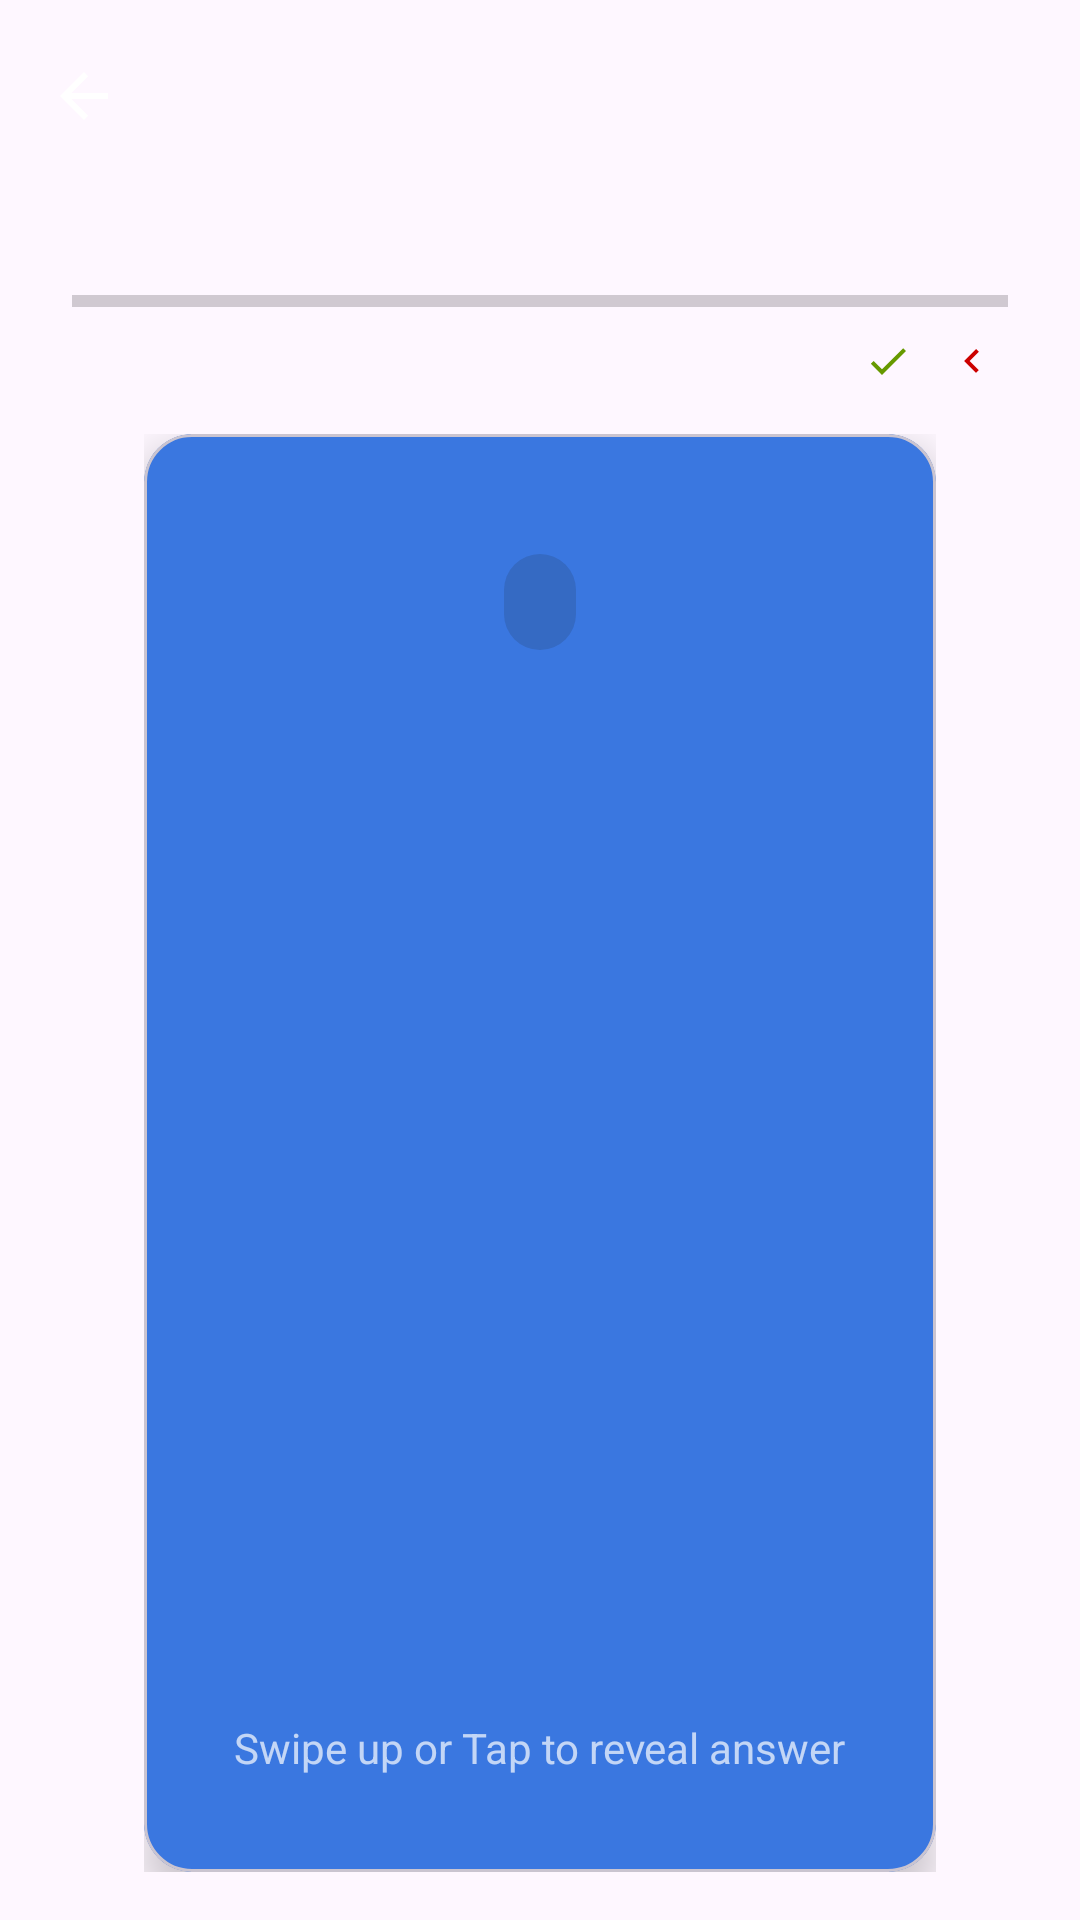

Screen size 1080 × 1920. Icon name, then its center in pixels as point (x, y):
Correct answers: point (888, 361)
